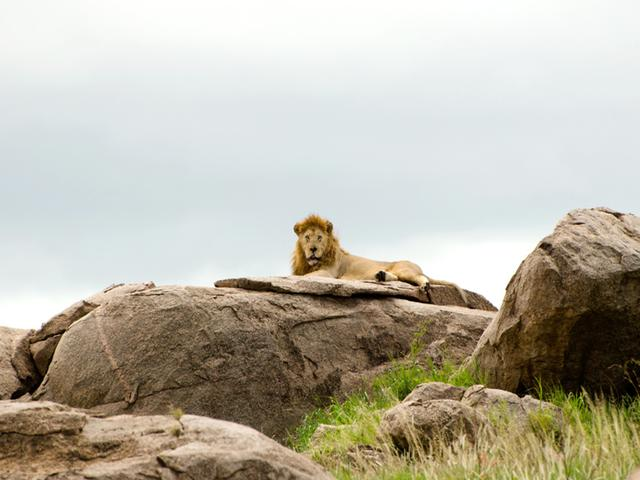lion: (281, 205, 478, 307)
